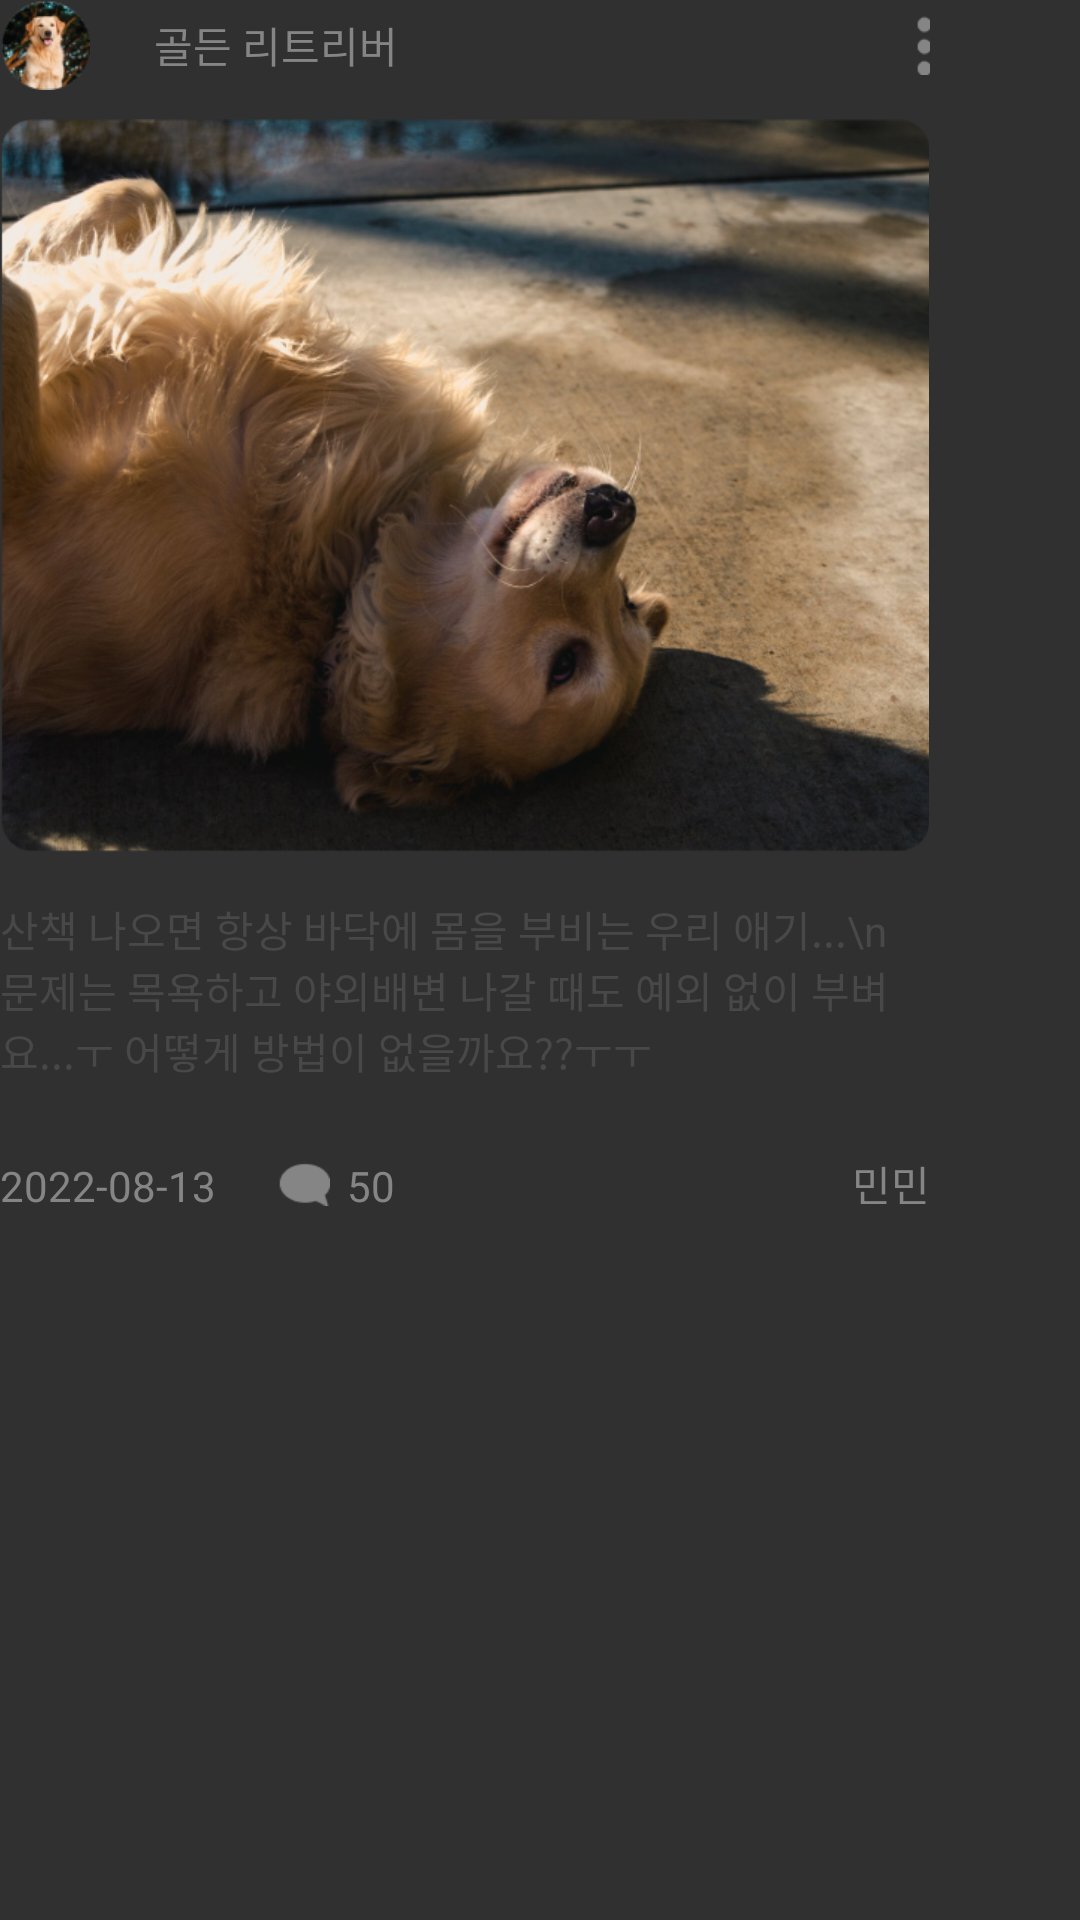

Point at icon controls on the screen. Image size 1080*1920, points as (x,y).
community animal profile: (46,45)
community comment: (305,1185)
